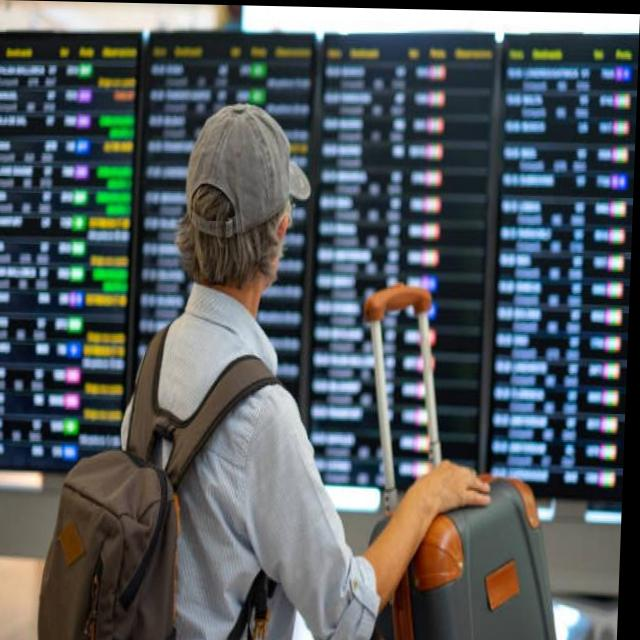no helmet: (152, 85, 325, 328)
